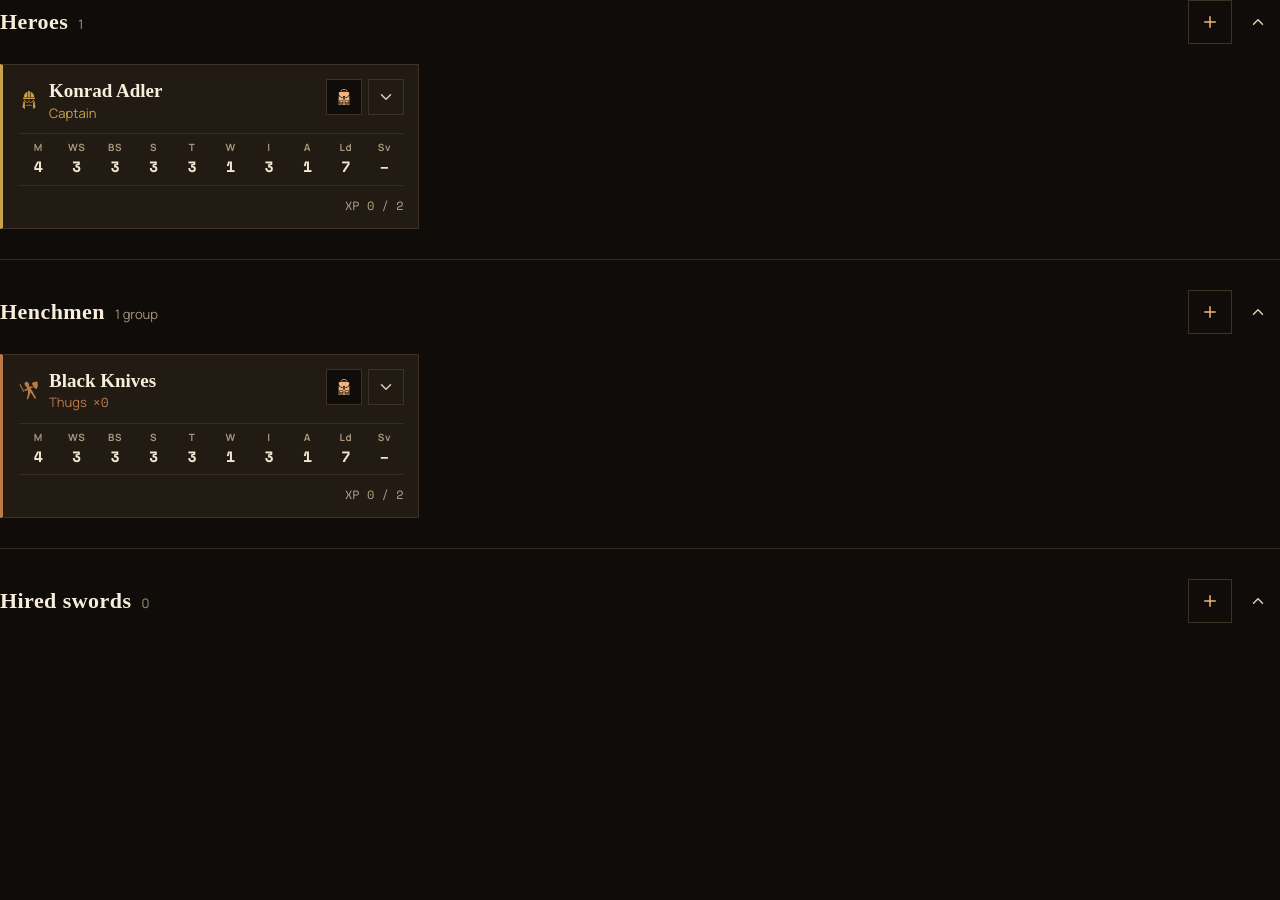
Test case: The roster's sections on a phone › still adds from a folded section
Click the button named "Heroes" at (1258,22), box x1=1236 y1=0 x2=1279 y2=44
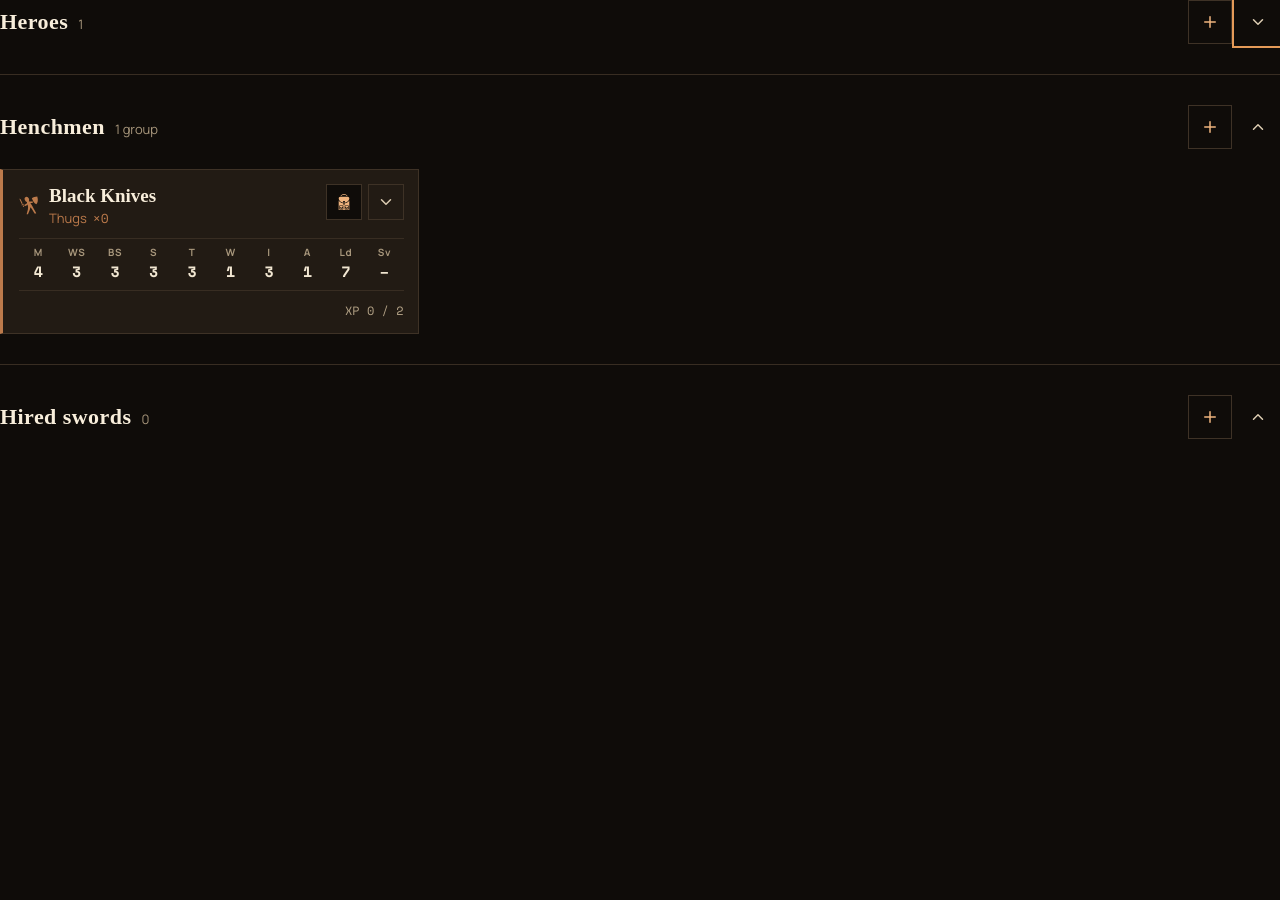
Click the button named "Add hero" at (1210,22), box x1=1188 y1=0 x2=1232 y2=44
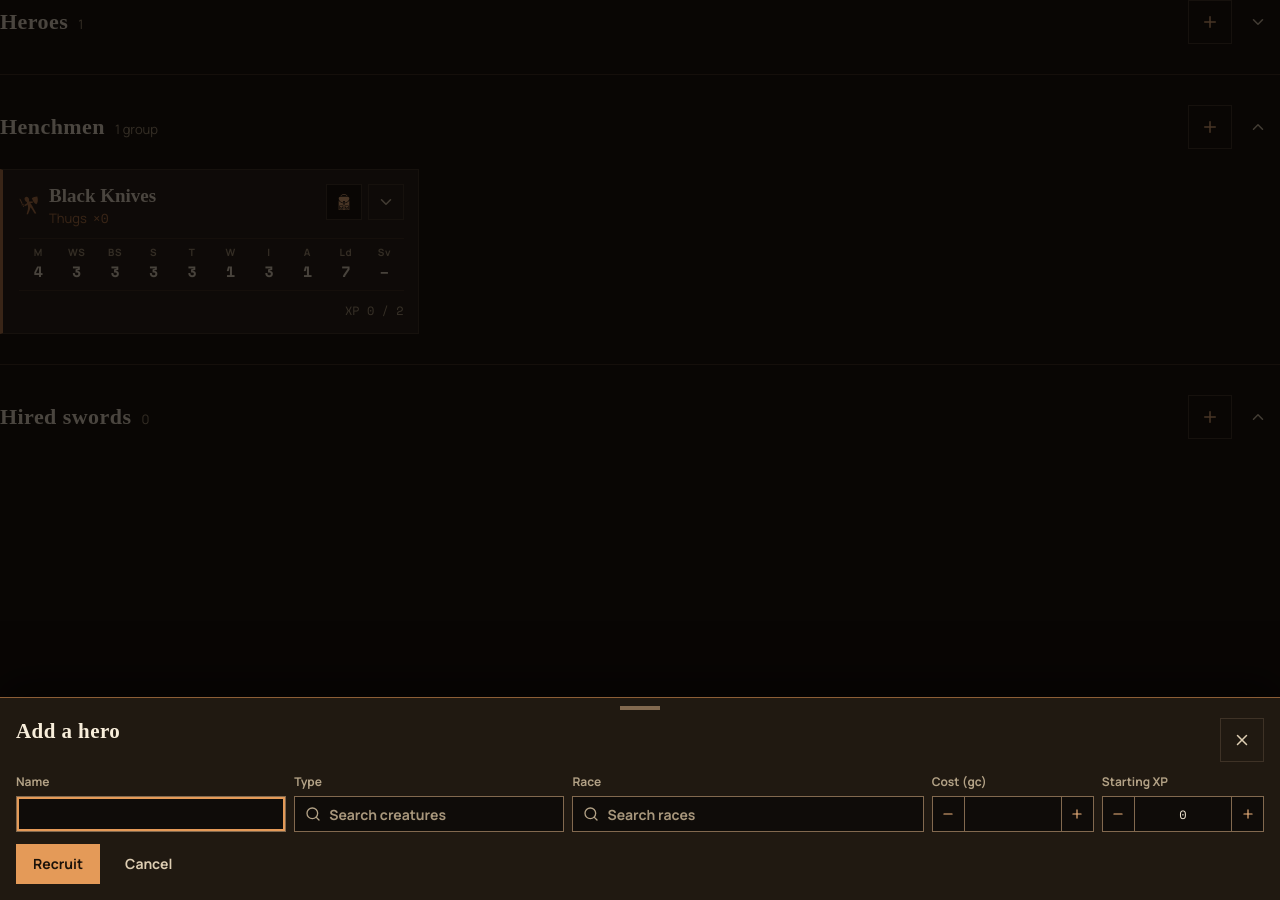
Now the dialog "Add a hero" is shown, box x1=0 y1=697 x2=1279 y2=899
